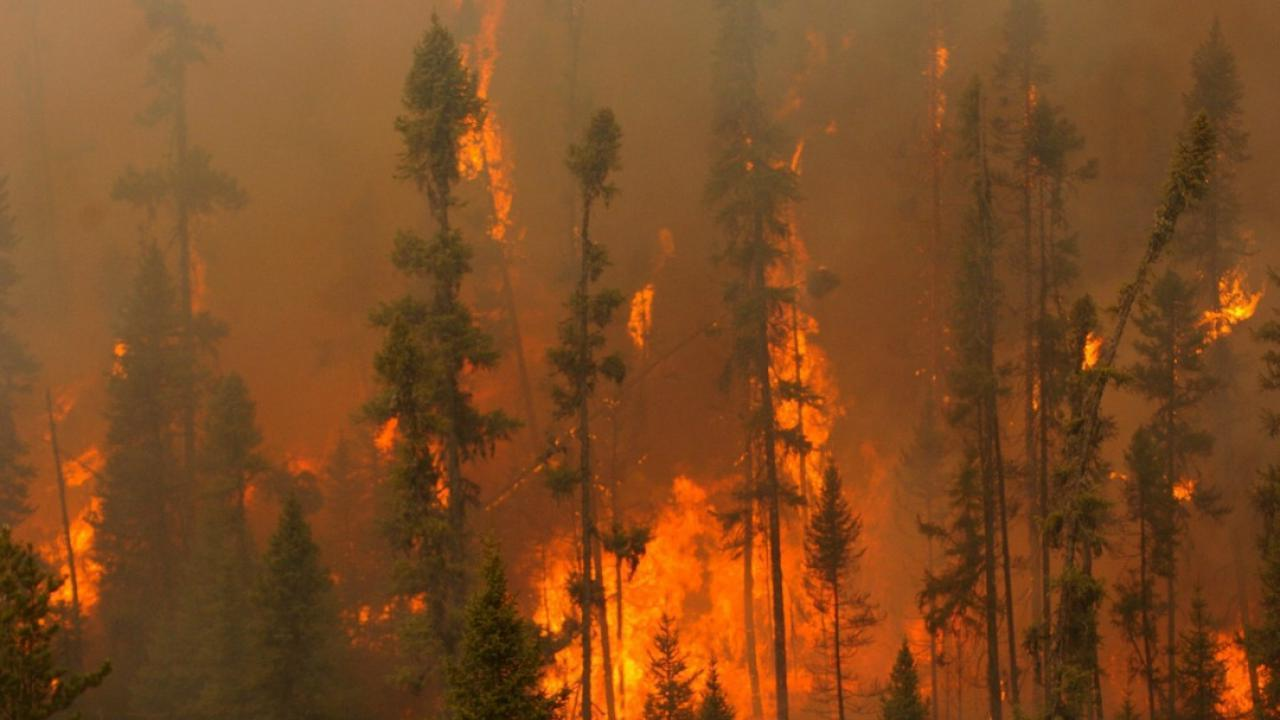Fire: (540, 199, 868, 713), (27, 352, 133, 611), (469, 26, 511, 244), (1177, 260, 1262, 361), (375, 415, 458, 501), (1212, 622, 1265, 708), (344, 583, 421, 642), (930, 42, 951, 131), (1080, 331, 1107, 368), (1171, 478, 1197, 503)
